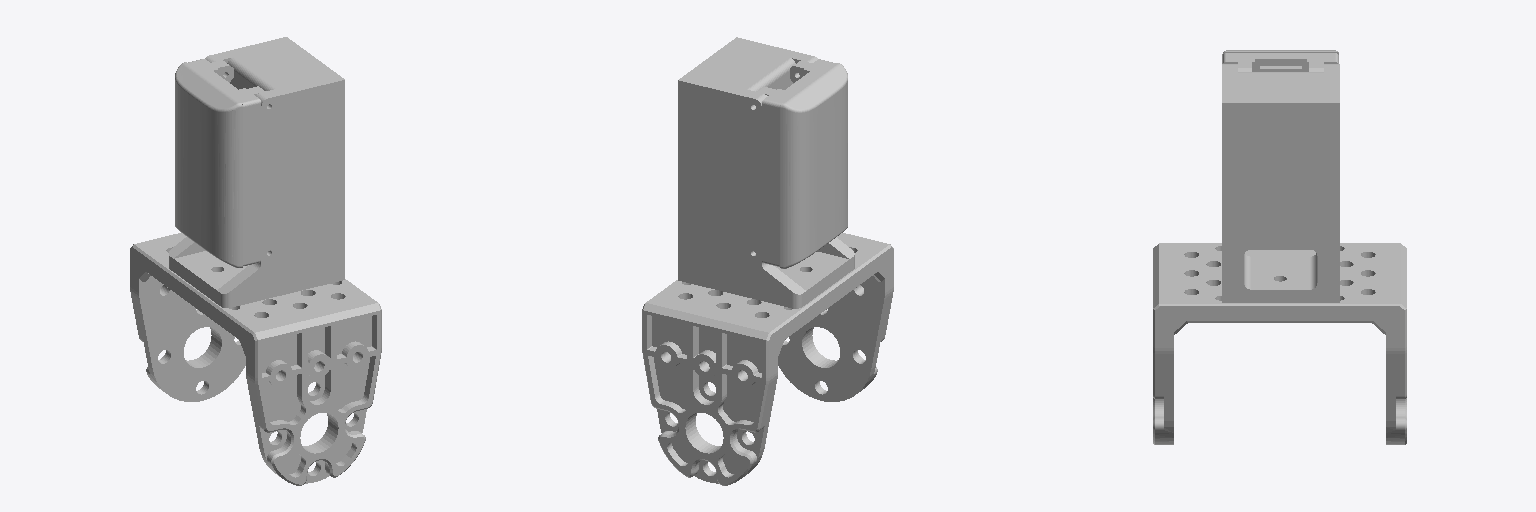
File: fingertip_paxini_fu.obj
3 views of the same model, side by side, from view 1: azimuth 30°, elevation 25°; view 2: azimuth 150°, elevation 25°; view 3: azimuth 270°, elevation 25° (orthographic).
Visible parts, largest first — view 1: zhifu_with_paxini_support; view 2: zhifu_with_paxini_support; view 3: zhifu_with_paxini_support.
Part boxes in pixels (bbox=[...]): zhifu_with_paxini_support: bbox=[130, 37, 381, 485]; zhifu_with_paxini_support: bbox=[642, 37, 893, 485]; zhifu_with_paxini_support: bbox=[1153, 50, 1406, 444].
Size of the model in its own units: 0.02 by 0.0552 by 0.0346.